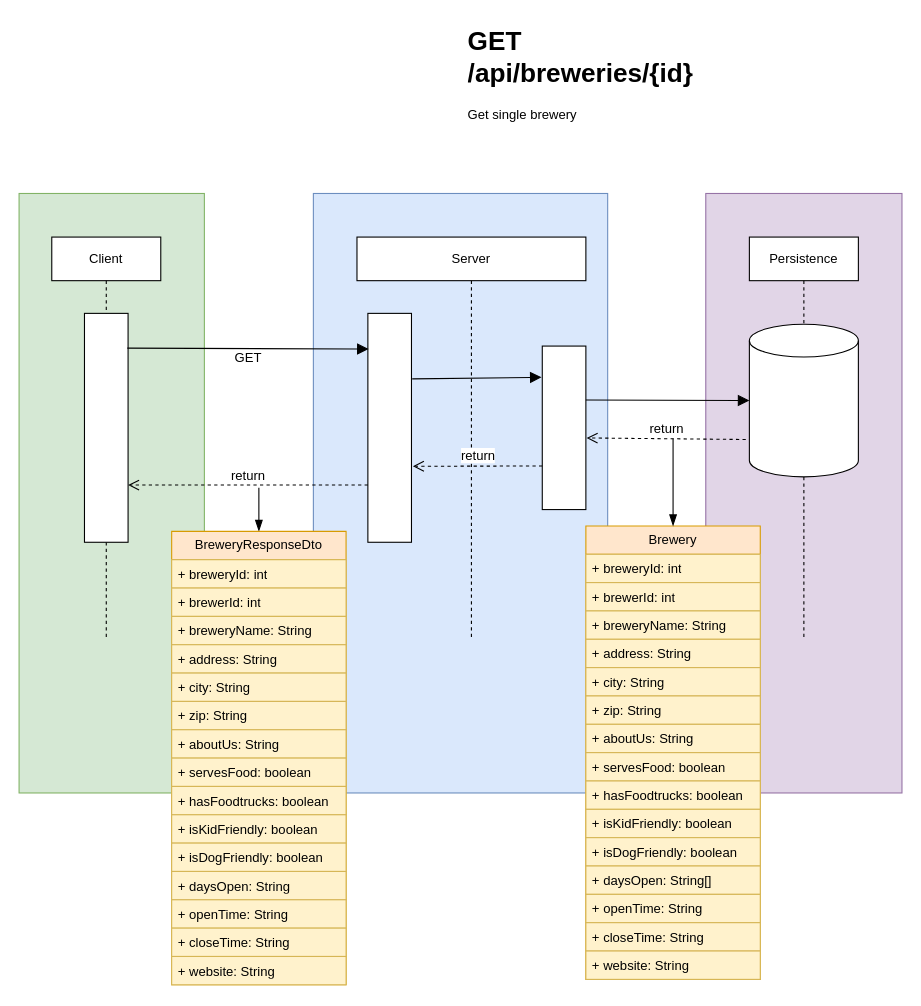
Some shapes in this 921 by 1006 pixel diagram are drawn without their labels. The centre of each missing label's shape, as x and y in pixels:
Controller: point 389,427
DAO: point 563,427
Postgres Database: point 803,400
Postman: point 105,427
